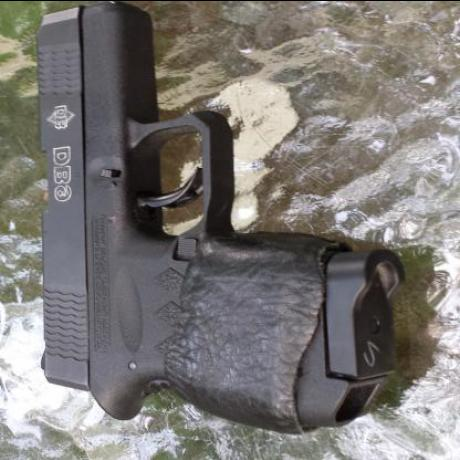weapon: (26, 4, 406, 432)
